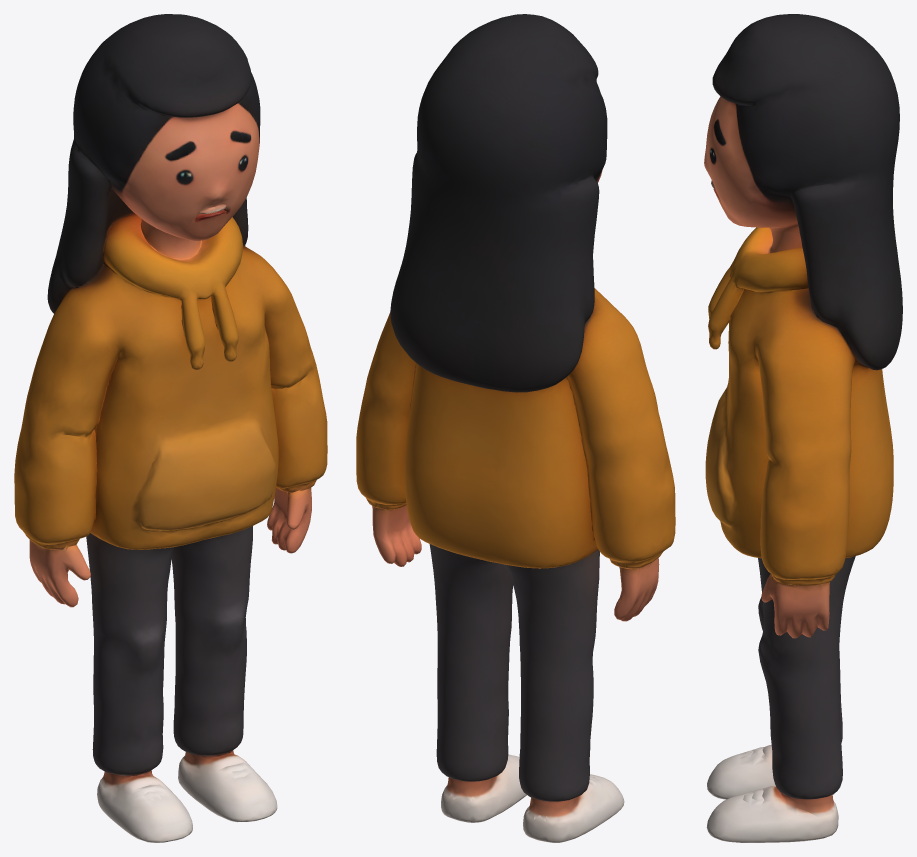
File: haru_rodin_fast.glb
3 renders of one model, left to right at view 1: azimuth 30°, elevation 25°; view 2: azimuth 150°, elevation 25°; view 3: azimuth 270°, elevation 25°, orthographic.
Visible parts, largest first — view 1: Mesh; view 2: Mesh; view 3: Mesh.
Boxes of the visible parts, box(x1,y1,x2,y2) form: Mesh: box(14, 14, 327, 842); Mesh: box(356, 14, 675, 842); Mesh: box(704, 14, 902, 842).
Bounding box in the file's own units: 0.7609 × 1.9 × 0.4341.
1 material, 1 textured.
